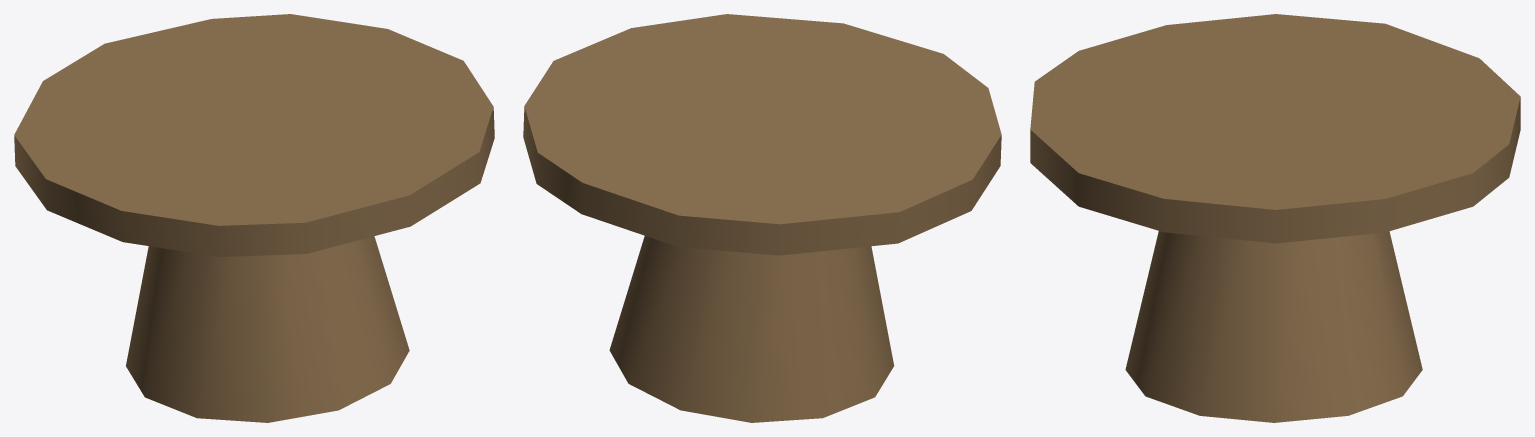
The model's file is table_2.fbx.
The picture shows the model from 3 angles, left to right: view 1: azimuth 30°, elevation 25°; view 2: azimuth 150°, elevation 25°; view 3: azimuth 270°, elevation 25°; orthographic projection. The views are drawn at different scales.
Parts seen in each view (by area): view 1: table_1_low1; view 2: table_1_low1; view 3: table_1_low1.
Boxes of the visible parts, x1=… form: table_1_low1: x1=14, y1=14, x2=494, y2=422; table_1_low1: x1=523, y1=14, x2=1001, y2=422; table_1_low1: x1=1030, y1=14, x2=1520, y2=422.
Size of the model in its own units: 97.39 by 57.31 by 94.42.
